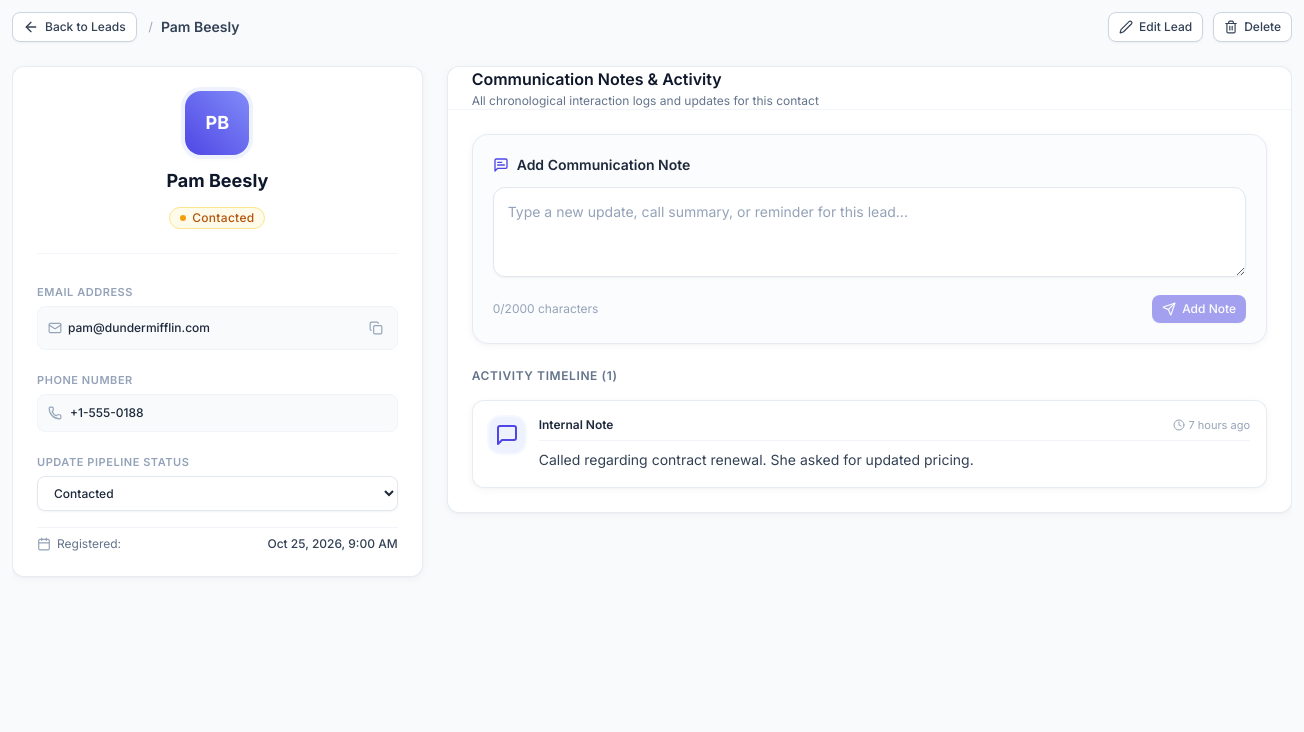
Test: LeadDetailPage › adds a new note and appends it to the activity timeline
The image size is (1304, 732).
Expected: the heading "Pam Beesly" is shown, [166,167,268,195]
In the text box with placeholder "Type a new update": x=869, y=232 [493,187,1246,277], type "Sent revised enterprise proposal by email."
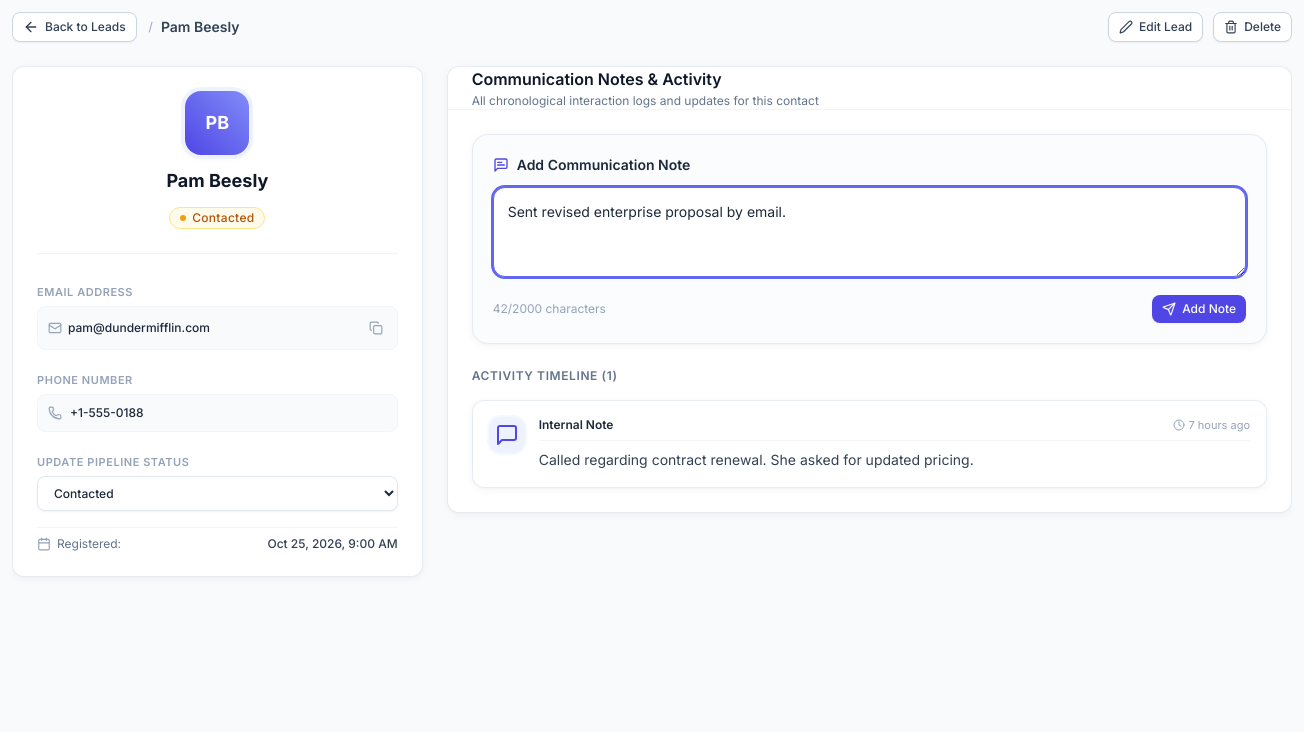
Click the button "Add Note": x=1199, y=309 [1152,295,1246,323]
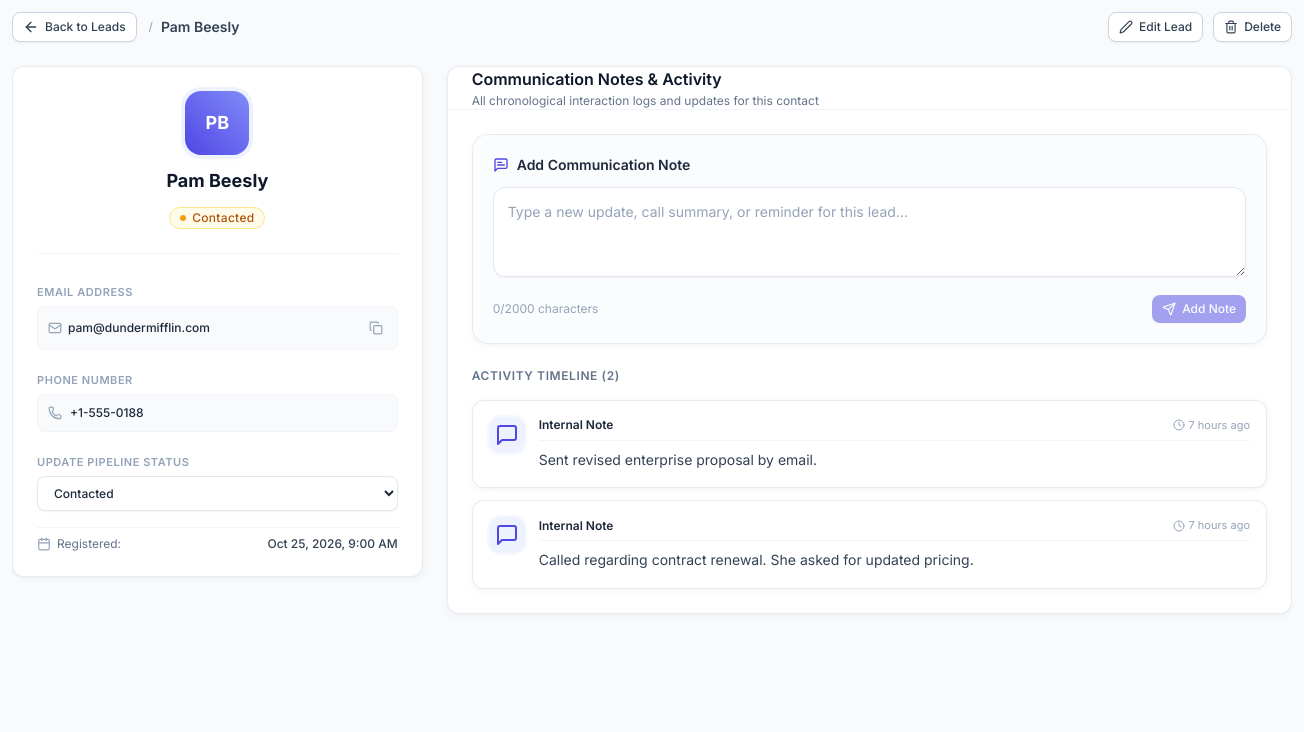
Result: the text "Sent revised enterprise proposal by email." is shown at [539,450,817,468]
